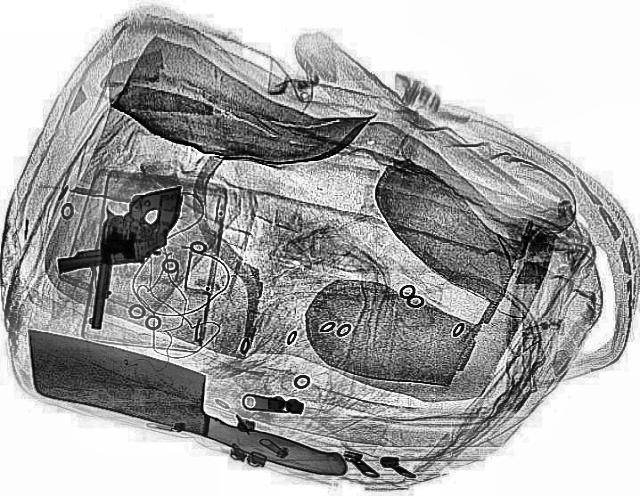Gun: (88, 180, 182, 332), (40, 191, 200, 275)
Knife: (1, 328, 373, 478)
